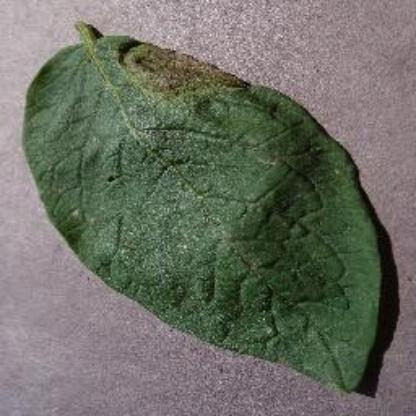Late-Blight: (17, 16, 396, 400)
